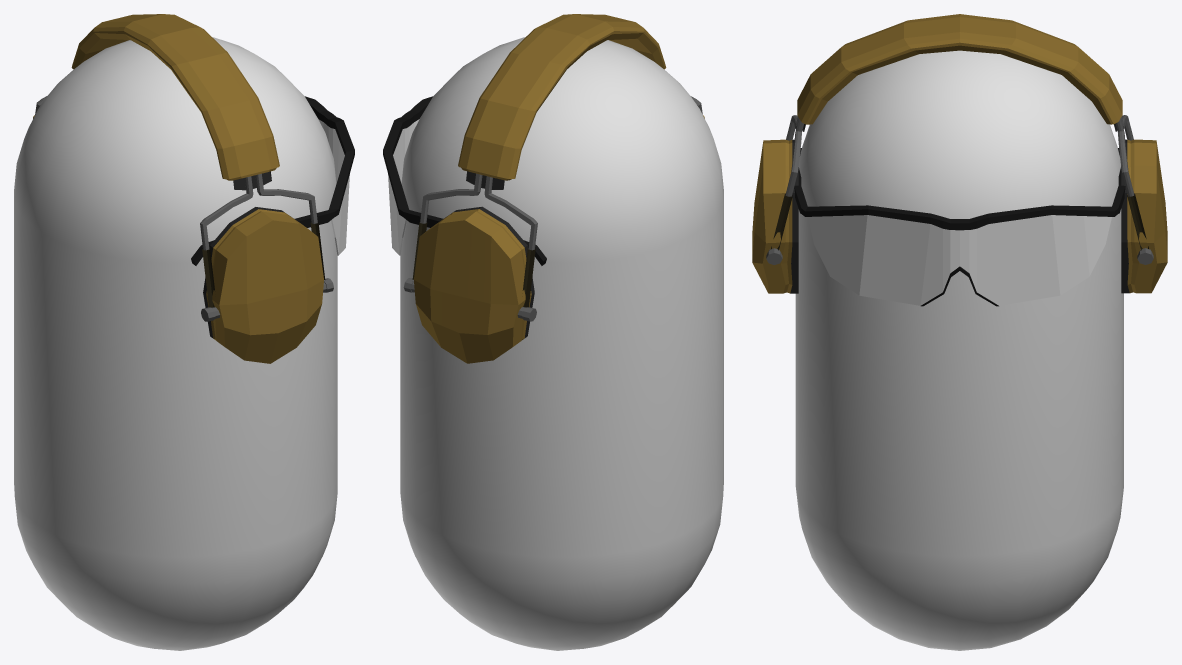
File: Player (1).fbx
3 views of the same model, side by side, from view 1: azimuth 30°, elevation 25°; view 2: azimuth 150°, elevation 25°; view 3: azimuth 270°, elevation 25° (orthographic).
Parts seen in each view (by area): view 1: Player__1_, Circle_005, Plane_106, Plane_112, Plane_111, Plane_105, Plane_104; view 2: Player__1_, Circle_006, Plane_106, Plane_112, Plane_111, Plane_109, Plane_108; view 3: Player__1_, Plane_111, Plane_106, Circle_006, Circle_005, Plane_112, Plane_104, Plane_108.
Part boxes in pixels (box(x1,y1,x2,y2)): Player__1_: box(14, 37, 337, 650); Circle_005: box(203, 207, 323, 363); Plane_106: box(71, 14, 279, 180); Plane_112: box(191, 96, 354, 265); Plane_111: box(318, 119, 349, 255); Plane_105: box(200, 176, 253, 307); Plane_104: box(255, 173, 325, 279); Player__1_: box(400, 37, 723, 650); Circle_006: box(413, 206, 534, 363); Plane_106: box(458, 14, 666, 180); Plane_112: box(383, 96, 546, 265); Plane_111: box(388, 119, 419, 255); Plane_109: box(484, 176, 537, 307); Plane_108: box(412, 173, 482, 279); Player__1_: box(795, 50, 1123, 650); Plane_111: box(808, 215, 1111, 305); Plane_106: box(797, 14, 1122, 124); Circle_006: box(1121, 139, 1167, 293); Circle_005: box(752, 139, 798, 293); Plane_112: box(794, 148, 1125, 230); Plane_104: box(770, 118, 803, 250); Plane_108: box(1116, 118, 1148, 250).
Bounding box in the file's own units: 106 × 205 × 127.
